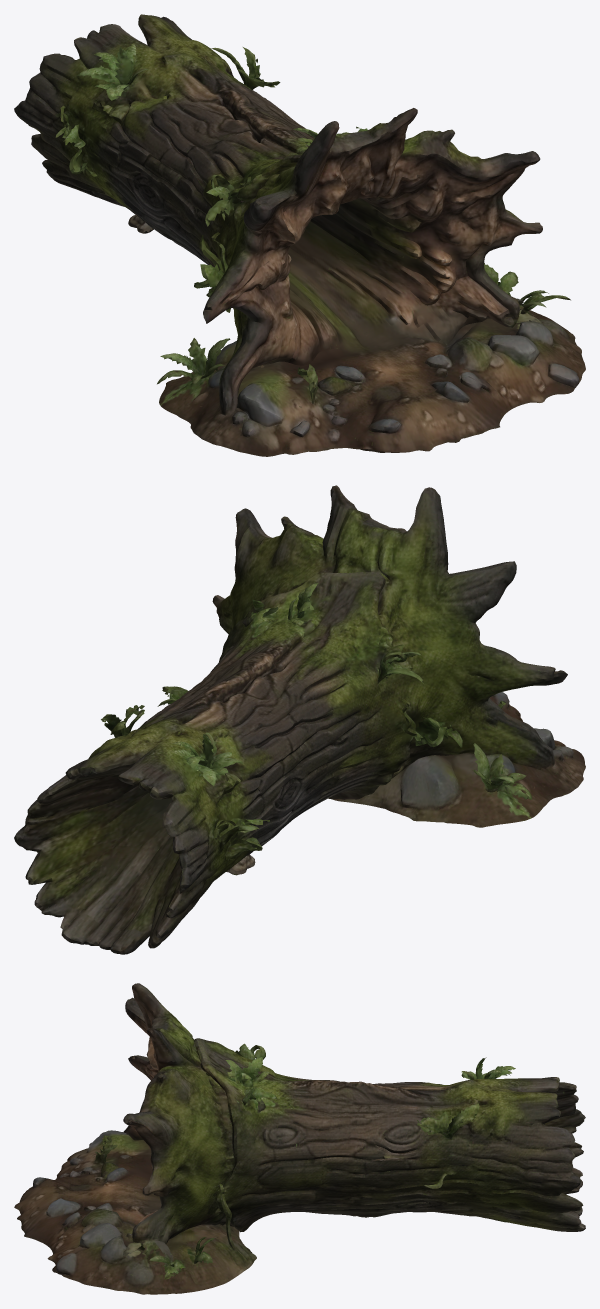
File: stormwood_fallen_giant.glb
3 renders of one model, top to bottom at view 1: azimuth 30°, elevation 25°; view 2: azimuth 150°, elevation 25°; view 3: azimuth 270°, elevation 25°, orthographic. The views are drawn at different scales.
Parts seen in each view (by area): view 1: Mesh_0; view 2: Mesh_0; view 3: Mesh_0.
Part boxes in pixels (left/top/right/bottom): Mesh_0: left=14, top=14, right=585, bottom=456; Mesh_0: left=14, top=485, right=585, bottom=954; Mesh_0: left=14, top=983, right=585, bottom=1294.
Size of the model in its own units: 1.2 by 0.7978 by 1.9.
1 material, 1 textured.
